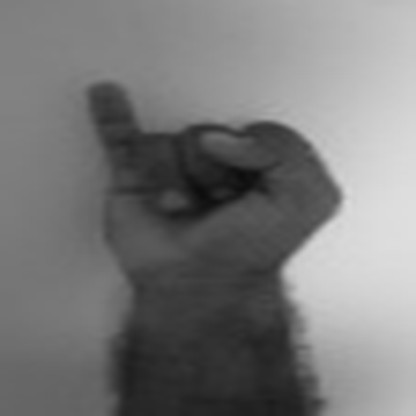i: (29, 70, 357, 294)
